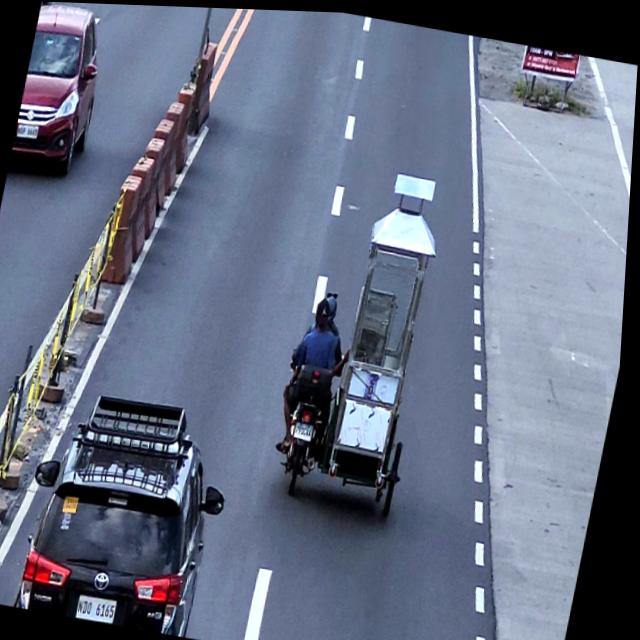Car: (17, 375, 249, 639), (10, 2, 114, 184)
License-Plate: (82, 592, 125, 623), (296, 416, 321, 439), (16, 121, 43, 141)
Tricycle: (274, 327, 432, 522)
